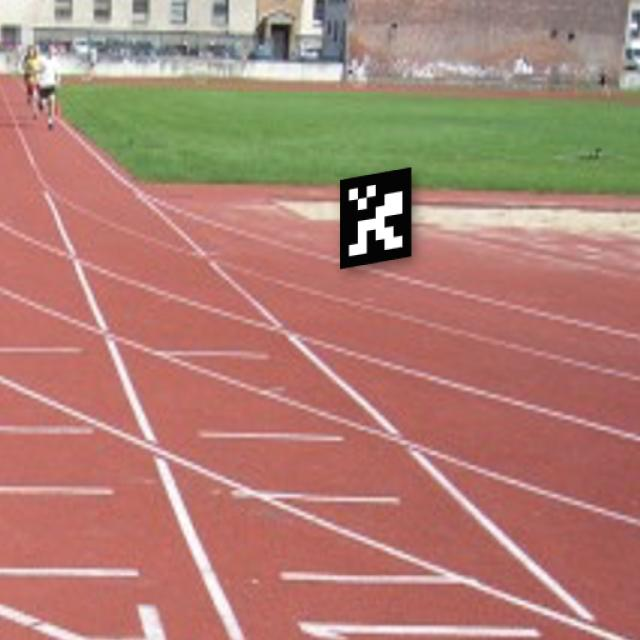marker: (334, 161, 424, 273)
